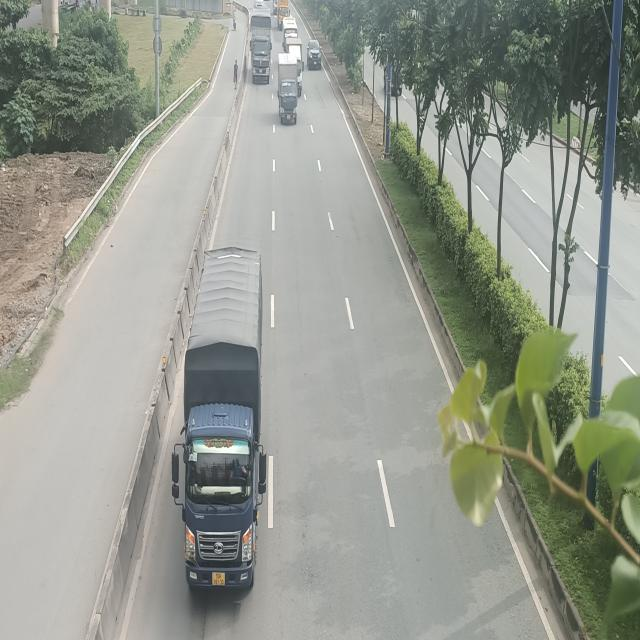car: (307, 40, 322, 70)
truck: (172, 246, 267, 588), (250, 7, 272, 84), (277, 53, 298, 126)
